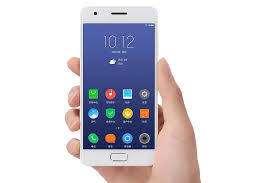lenovo: (79, 2, 156, 169)
